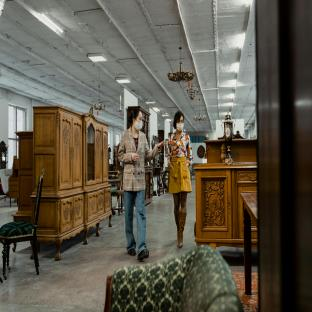Human: (118, 108, 165, 260), (167, 111, 193, 248)
